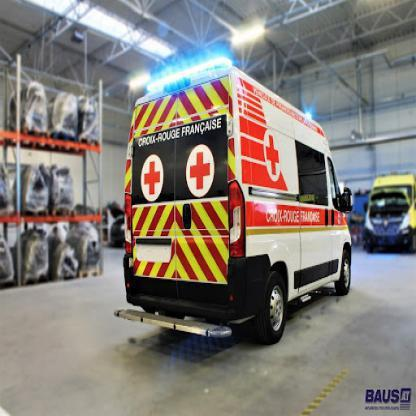ambulance_off: (113, 58, 351, 346)
